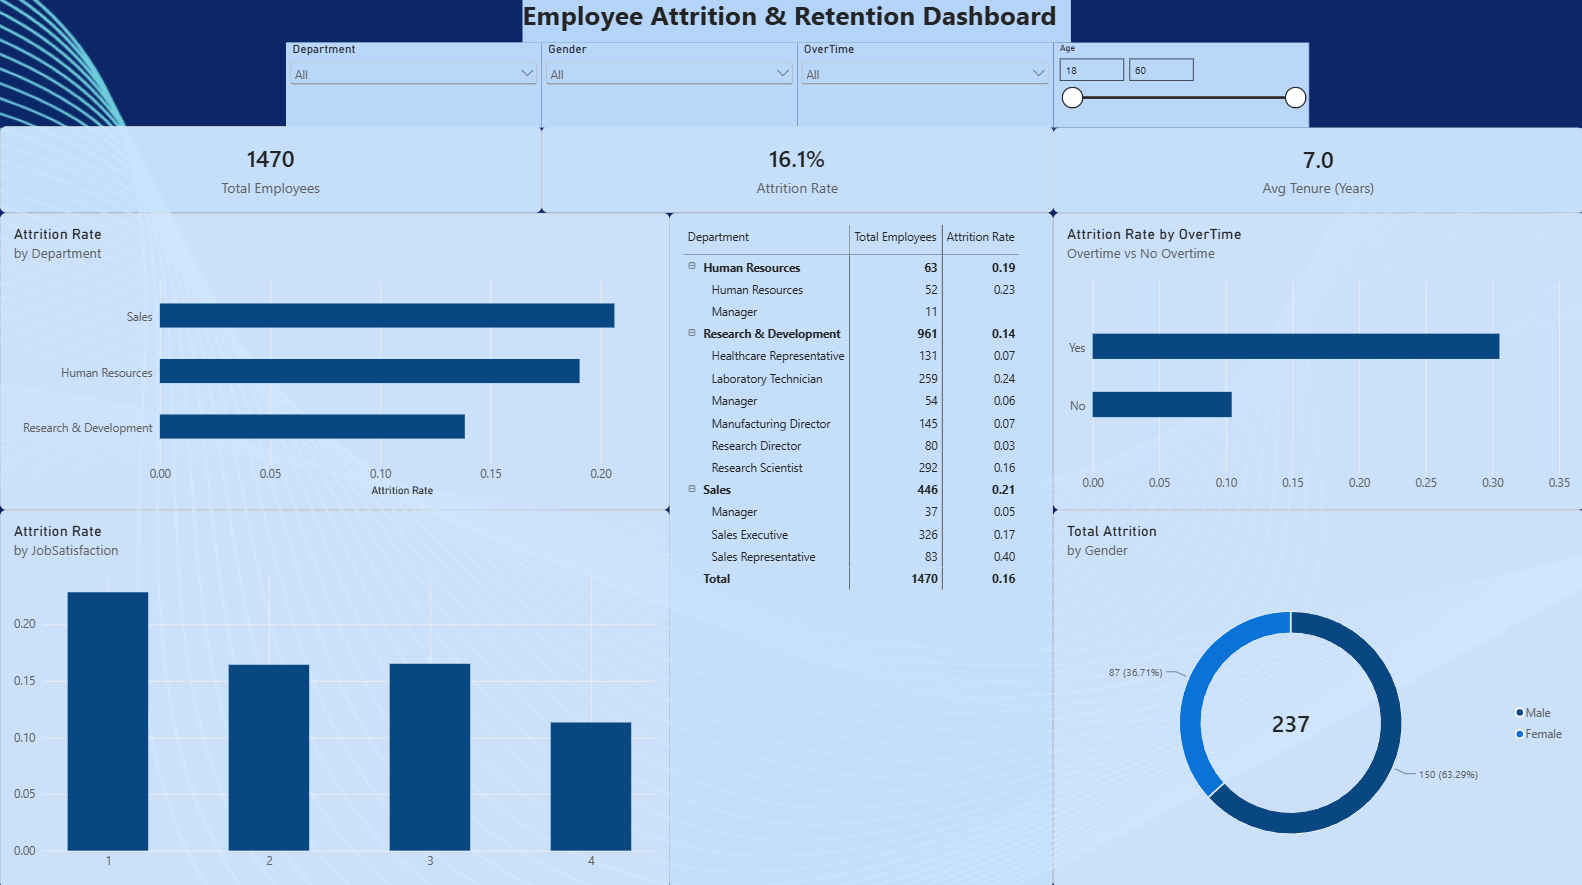

The page's visual inventory and layout, read from the dashboard file:
{"tool":"powerbi","page":{"name":"Page 1","canvas":[1920,1080],"ordinal":0},"visuals":[{"type":"card","fields":{"Values":["cleaned_data.Total Employees"]},"box":[0,156.7,656.7,105],"z":0},{"type":"card","fields":{"Values":["cleaned_data.Attrition Rate"]},"box":[656.7,156.7,620,105],"z":1000},{"type":"card","fields":{"Values":["cleaned_data.Avg Tenure (Years)"]},"box":[1276.7,158.3,643.3,103.3],"z":2000},{"type":"clusteredBarChart","fields":{"Category":["cleaned_data.Department"],"Y":["cleaned_data.Attrition Rate"]},"box":[0,261.7,811.7,360],"z":3000},{"type":"barChart","fields":{"Category":["cleaned_data.OverTime"],"Y":["cleaned_data.Attrition Rate"]},"box":[1276.7,261.7,643.3,360],"z":4000},{"type":"donutChart","fields":{"Category":["cleaned_data.Gender"],"Y":["cleaned_data.Total Attrition"]},"box":[1276.7,621.7,643.3,458.3],"z":5000},{"type":"clusteredColumnChart","fields":{"Category":["cleaned_data.JobSatisfaction"],"Y":["cleaned_data.Attrition Rate"]},"box":[0,621.7,811.7,458.3],"z":6000},{"type":"pivotTable","fields":{"Rows":["cleaned_data.Department","cleaned_data.JobRole"],"Values":["cleaned_data.Total Employees","cleaned_data.Attrition Rate"]},"box":[811.7,261.7,465,818.3],"z":7000},{"type":"slicer","fields":{"Values":["cleaned_data.Department"]},"box":[346.7,55,310,103.3],"z":8000},{"type":"slicer","fields":{"Values":["cleaned_data.Gender"]},"box":[656.7,55,310,103.3],"z":9000},{"type":"slicer","fields":{"Values":["cleaned_data.OverTime"]},"box":[966.7,55,310,103.3],"z":10000},{"type":"slicer","fields":{"Values":["cleaned_data.Age"]},"box":[1276.7,55,310,103.3],"z":11000},{"type":"textbox","box":[633.3,0,665,55],"z":12000}]}

Visuals, with their boxes in screenshot pixels (x1, y1, x2, y2), scaled from the page's 1920x1080 canvas onto the 1582x885 screenshot:
card - cleaned_data.Total Employees: crop(0, 128, 541, 214)
card - cleaned_data.Attrition Rate: crop(541, 128, 1052, 214)
card - cleaned_data.Avg Tenure (Years): crop(1052, 130, 1581, 214)
clusteredBarChart - cleaned_data.Department x cleaned_data.Attrition Rate: crop(0, 214, 669, 509)
barChart - cleaned_data.OverTime x cleaned_data.Attrition Rate: crop(1052, 214, 1581, 509)
donutChart - cleaned_data.Gender x cleaned_data.Total Attrition: crop(1052, 509, 1581, 884)
clusteredColumnChart - cleaned_data.JobSatisfaction x cleaned_data.Attrition Rate: crop(0, 509, 669, 884)
pivotTable - cleaned_data.Department x cleaned_data.JobRole: crop(669, 214, 1052, 884)
slicer - cleaned_data.Department: crop(286, 45, 541, 130)
slicer - cleaned_data.Gender: crop(541, 45, 797, 130)
slicer - cleaned_data.OverTime: crop(797, 45, 1052, 130)
slicer - cleaned_data.Age: crop(1052, 45, 1307, 130)
textbox: crop(522, 0, 1070, 45)
